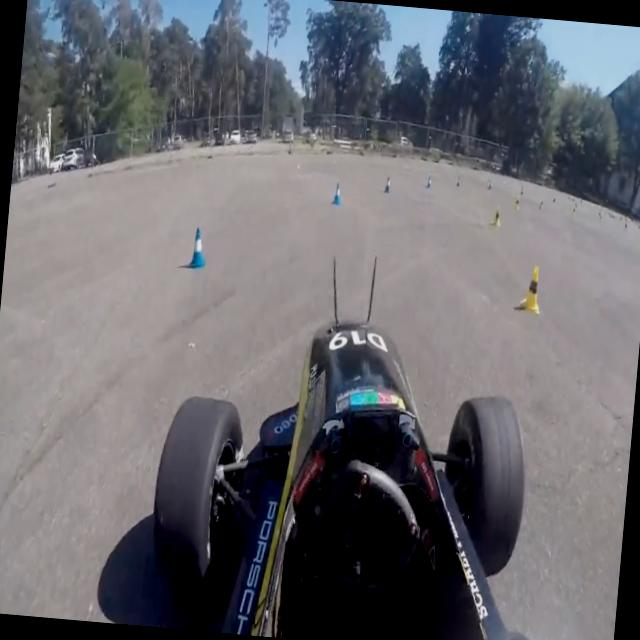blue_cone: (185, 224, 210, 273), (331, 182, 343, 206), (383, 175, 391, 195), (426, 173, 432, 189)
yellow_cone: (520, 261, 544, 318), (491, 204, 502, 230)
